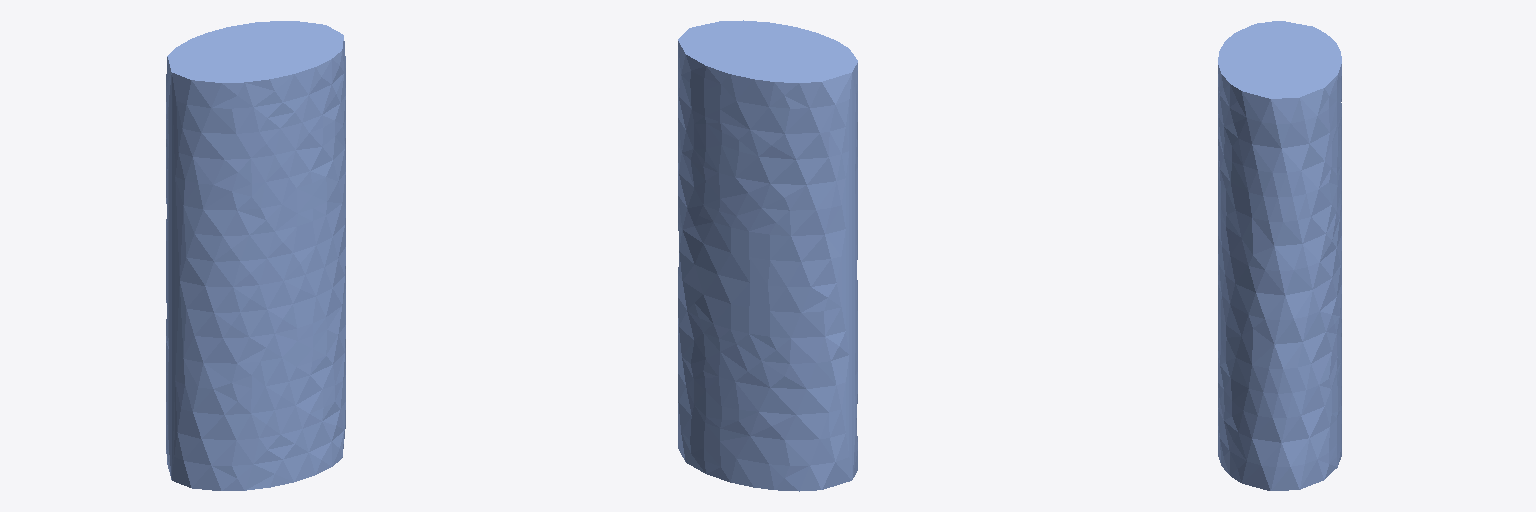
robot.urdf — Medium_Short_Oval_JeansBlue:
<?xml version="1.0"?>
<robot name="Medium_Short_Oval_JeansBlue">
    <link name="Medium_Short_Oval_JeansBlue">
        <visual>
            <geometry>
                <mesh filename="../mesh/factory_insertion/Medium_Short_Oval_JeansBlue.obj" scale="0.001 0.001 0.001"/>
            </geometry>
            <material name="JeansBlue">
              <color rgba="0.65 0.75 0.95 0"/>
            </material>
        </visual>
        <collision>
            <geometry>
                <mesh filename="../mesh/factory_insertion/Medium_Short_Oval_JeansBlue.obj" scale="0.001 0.001 0.001"/>
            </geometry>
            <sdf resolution="512"/>
        </collision>
    </link>
</robot>

--- Render facts (derived) ---
3 views of the same robot in one strip: view 1: azimuth 30°, elevation 25°; view 2: azimuth 150°, elevation 25°; view 3: azimuth 270°, elevation 25° (orthographic).
Robot: Medium_Short_Oval_JeansBlue — 1 links, 0 joints (none); root link Medium_Short_Oval_JeansBlue; default pose: every joint at zero.
Links seen in each view (by area): view 1: Medium_Short_Oval_JeansBlue; view 2: Medium_Short_Oval_JeansBlue; view 3: Medium_Short_Oval_JeansBlue.
Boxes of the visible links, x1,y1,x2,y2 form: Medium_Short_Oval_JeansBlue: (166,21,345,490); Medium_Short_Oval_JeansBlue: (678,20,857,491); Medium_Short_Oval_JeansBlue: (1218,21,1341,490).
Size in the robot's own frame: 0.0432 by 0.0288 by 0.1 metres.
Meshes: 1 distinct files referenced, 1 mesh visuals loaded (1 OBJ).
